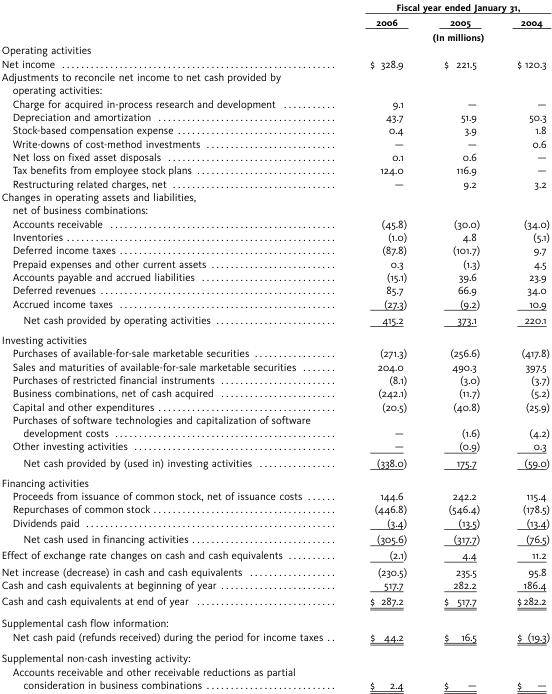table: (0, 1, 549, 690)
table column: (0, 1, 345, 690), (345, 1, 424, 690), (424, 1, 497, 690), (497, 1, 549, 690)
table column header: (0, 1, 549, 43)
table projected row header: (0, 69, 549, 96), (0, 189, 549, 216), (0, 611, 549, 629), (0, 646, 549, 664), (0, 329, 549, 346), (0, 472, 549, 488), (0, 43, 549, 56)
table row: (0, 69, 549, 96), (0, 189, 549, 216), (0, 412, 549, 439), (0, 664, 549, 690), (0, 592, 549, 611), (0, 311, 549, 329), (0, 454, 549, 472), (0, 611, 549, 629), (0, 646, 549, 664), (0, 329, 549, 346), (0, 546, 549, 563), (0, 629, 549, 646), (0, 472, 549, 488), (0, 530, 549, 546), (0, 14, 549, 29), (0, 296, 549, 311), (0, 439, 549, 454), (0, 515, 549, 530), (0, 577, 549, 592), (0, 29, 549, 43), (0, 109, 549, 123), (0, 149, 549, 163), (0, 229, 549, 243), (0, 269, 549, 283), (0, 372, 549, 386), (0, 488, 549, 502), (0, 563, 549, 577), (0, 1, 549, 14), (0, 43, 549, 56), (0, 56, 549, 69), (0, 96, 549, 109), (0, 123, 549, 136), (0, 136, 549, 149), (0, 163, 549, 176), (0, 176, 549, 189), (0, 216, 549, 229), (0, 243, 549, 256), (0, 256, 549, 269), (0, 283, 549, 296), (0, 346, 549, 359), (0, 359, 549, 372), (0, 386, 549, 399), (0, 399, 549, 412), (0, 502, 549, 515)
table spanning cell: (345, 29, 549, 43), (345, 1, 549, 14)
